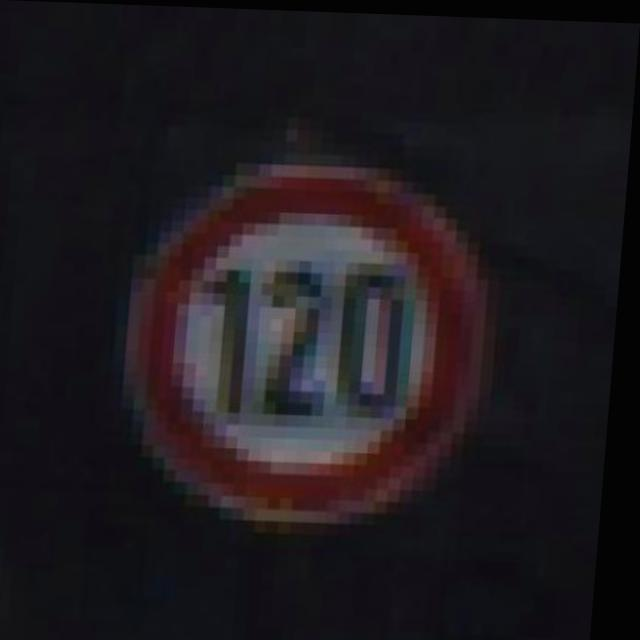limit120: (92, 149, 524, 538)
